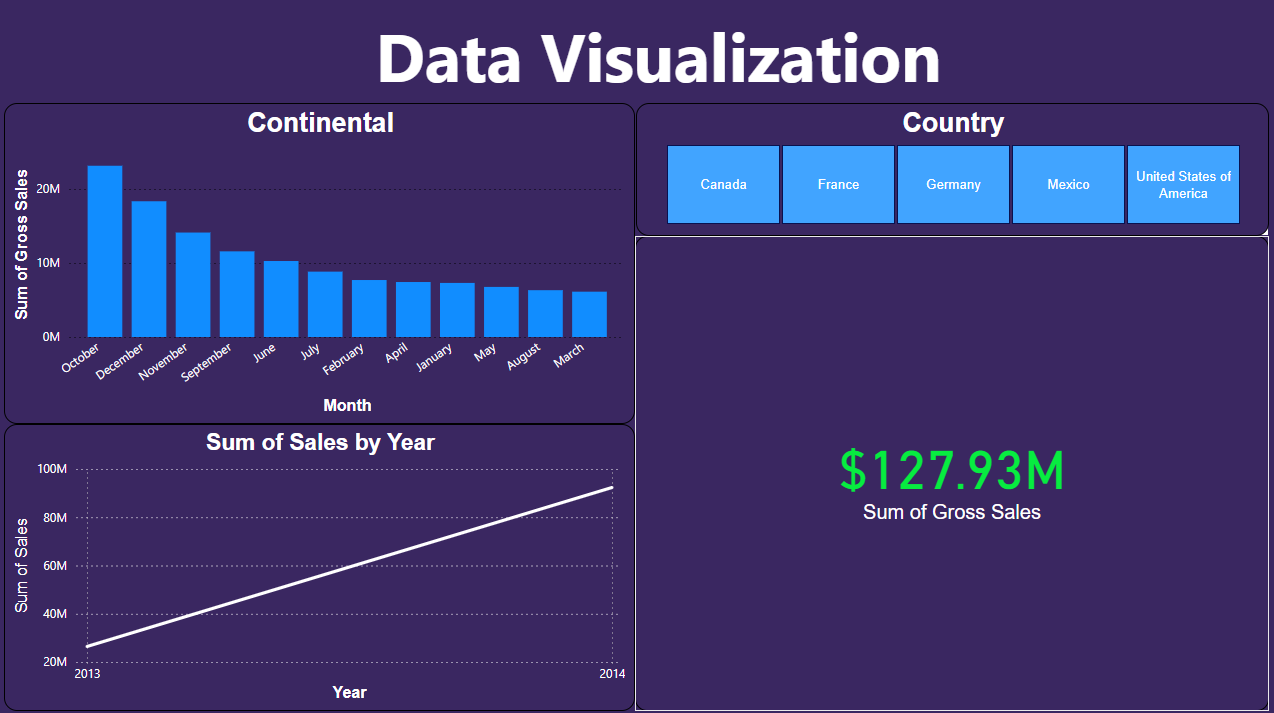

The page's visual inventory and layout, read from the dashboard file:
{"tool":"powerbi","page":{"name":"Page 1","canvas":[1280,720],"ordinal":0},"visuals":[{"type":"shape","title":"Hey","box":[203.9,7.1,916.8,97.5],"z":0},{"type":"columnChart","title":"Continental","fields":{"Category":["financials.Month Name"],"Y":["Sum(financials.Gross Sales)"]},"box":[8,105,631,321],"z":1000},{"type":"card","fields":{"Values":["Sum(financials.Gross Sales)"]},"box":[639,238,634,475],"z":2000},{"type":"slicer","title":"Country","fields":{"Values":["financials.Country"]},"box":[640,105,633,133],"z":3000},{"type":"lineChart","fields":{"Y":["Sum(financials.Sales)"],"Category":["financials.Year"]},"box":[8,426,631,287],"z":4000}]}

Visuals, with their boxes in screenshot pixels (x1, y1, x2, y2), scaled from the page's 1280x720 canvas onto the 1274x713 screenshot:
"Hey" shape: pyautogui.locateOnScreen(203, 7, 1115, 104)
"Continental" columnChart: pyautogui.locateOnScreen(8, 104, 636, 422)
card - Sum(financials.Gross Sales): pyautogui.locateOnScreen(636, 236, 1267, 706)
"Country" slicer: pyautogui.locateOnScreen(637, 104, 1267, 236)
lineChart - Sum(financials.Sales) x financials.Year: pyautogui.locateOnScreen(8, 422, 636, 706)
